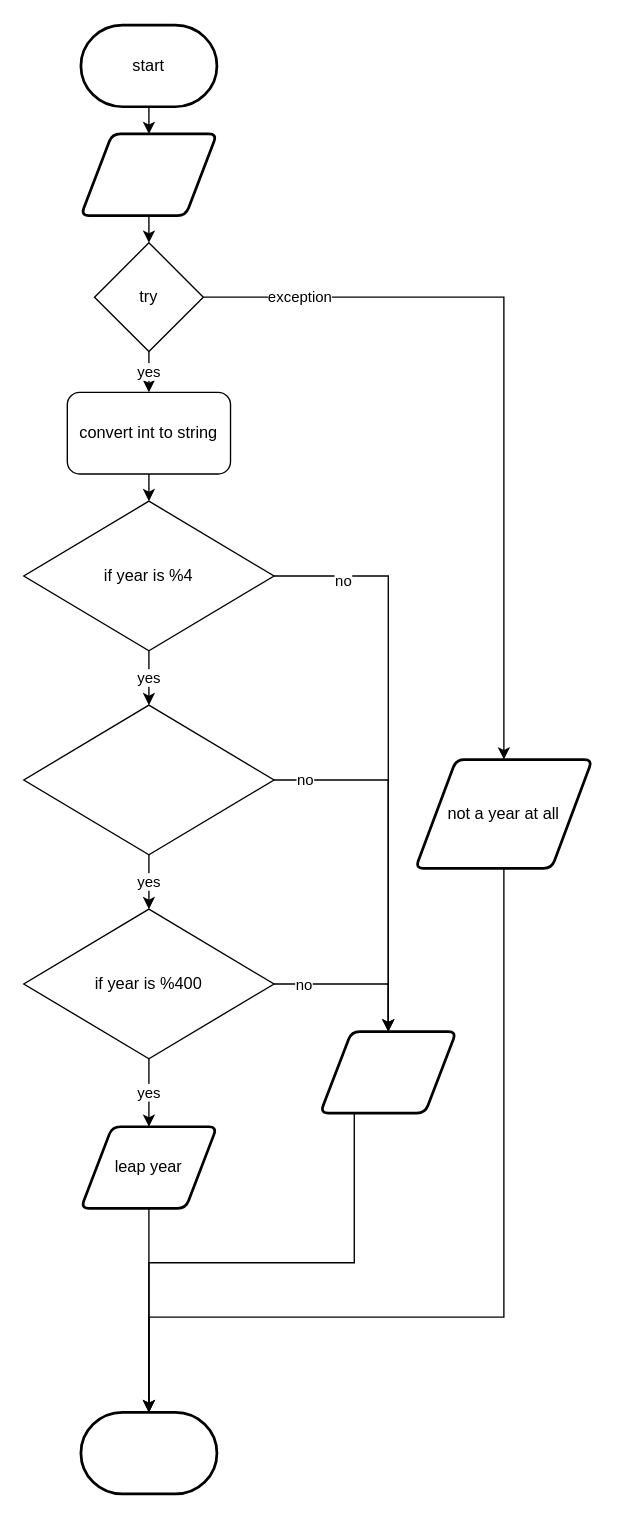
Image size: 617x1518. Some labels were removed from this diagram. Each missing label, with the centre of its shape:
"get year" goes at [148,174].
"if year is %100" goes at [148,779].
"not leap year" goes at [387,1072].
"stop" goes at [148,1452].
